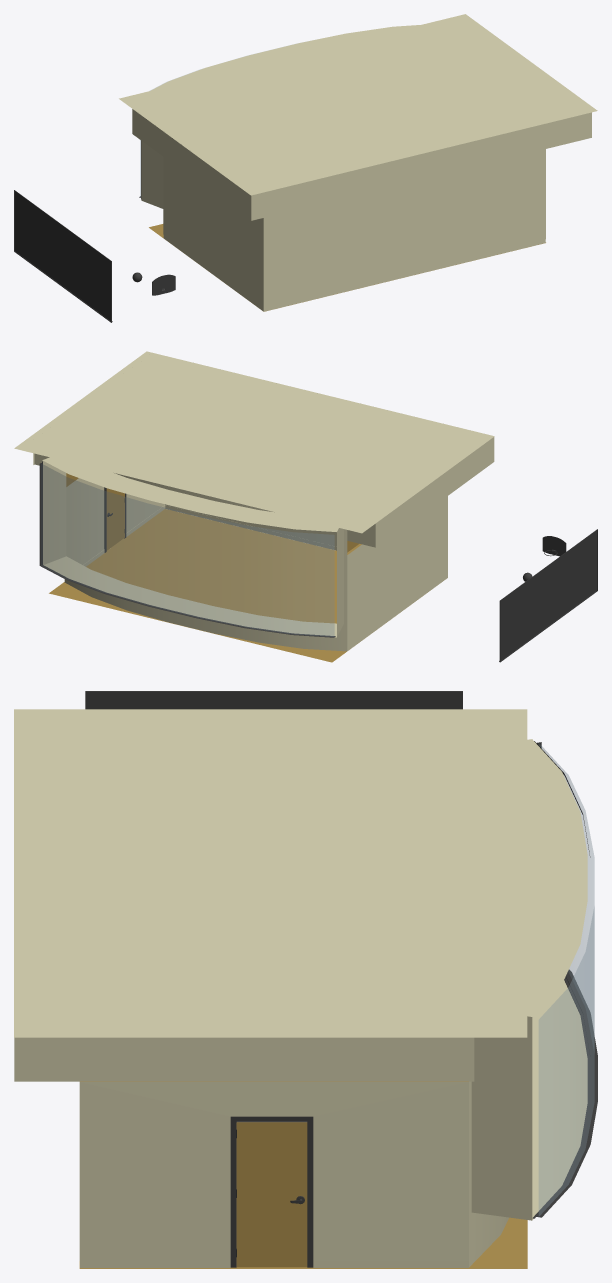
Rendered from Debreifing_Expanded.fbx.
The picture shows the model from 3 angles, top to bottom: view 1: azimuth 30°, elevation 25°; view 2: azimuth 150°, elevation 25°; view 3: azimuth 270°, elevation 25°; orthographic projection. The views are drawn at different scales.
Visible parts, largest first — view 1: Base_Wall, Ceiling, WhiteBoard, Window_Wall, Basketball_Hoop; view 2: Ceiling, Window, Floor, Base_Wall, Window_Wall, WhiteBoard, Door, Basketball_Hoop; view 3: Ceiling, Base_Wall, Window_Wall, Window, Door, WhiteBoard, Floor.
Part boxes in pixels (x1=…): Base_Wall: x1=132, y1=109, x2=591, y2=311; Ceiling: x1=119, y1=14, x2=597, y2=195; WhiteBoard: x1=14, y1=190, x2=112, y2=322; Window_Wall: x1=139, y1=25, x2=419, y2=208; Basketball_Hoop: x1=152, y1=274, x2=175, y2=295; Ceiling: x1=14, y1=351, x2=494, y2=533; Window: x1=41, y1=463, x2=334, y2=636; Floor: x1=49, y1=509, x2=422, y2=662; Base_Wall: x1=33, y1=437, x2=494, y2=650; Window_Wall: x1=34, y1=453, x2=375, y2=651; WhiteBoard: x1=499, y1=529, x2=597, y2=662; Door: x1=106, y1=488, x2=125, y2=550; Basketball_Hoop: x1=542, y1=536, x2=566, y2=556; Ceiling: x1=14, y1=709, x2=527, y2=1037; Base_Wall: x1=14, y1=1037, x2=474, y2=1267; Window_Wall: x1=469, y1=739, x2=597, y2=1267; Window: x1=539, y1=743, x2=594, y2=1215; Door: x1=236, y1=1122, x2=307, y2=1267; WhiteBoard: x1=85, y1=691, x2=462, y2=709; Floor: x1=79, y1=1122, x2=527, y2=1268.
Size of the model in its own units: 45.08 by 12.51 by 25.11.
